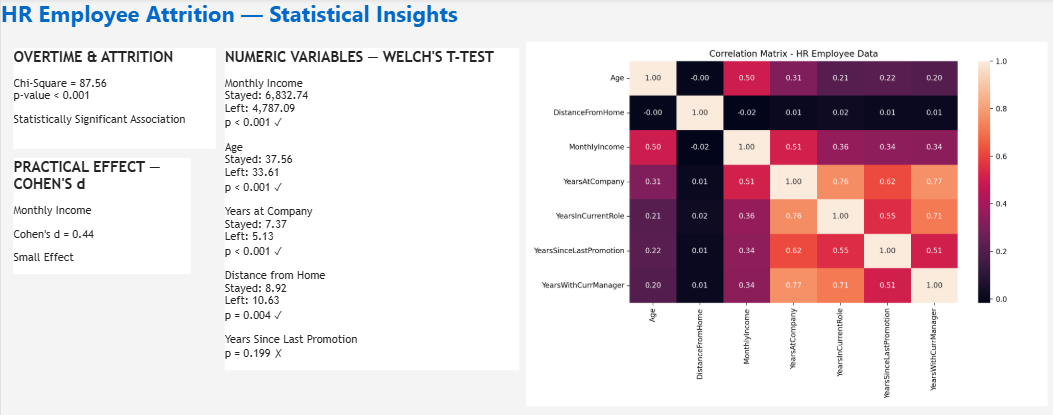

The page's visual inventory and layout, read from the dashboard file:
{"tool":"powerbi","page":{"name":"Statistical Insights","canvas":[1920,1080],"ordinal":2},"visuals":[{"type":"textbox","box":[18.3,73.2,293.2,146.6],"z":0},{"type":"textbox","box":[323.9,73.2,426.8,466.2],"z":1000},{"type":"textbox","box":[18.3,232.4,256.4,167.9],"z":2000},{"type":"image","box":[760.6,62,754.9,531],"z":3000},{"type":"textbox","box":[0,0,715.5,52.1],"z":3001}]}

Visuals, with their boxes on the page's 1920x1080 design canvas (x1, y1, x2, y2). These are canvas units, not pixel positions in the 1053x415 screenshot, which may show the page scaled, cropped or inside an application window:
textbox: rect(18, 73, 312, 220)
textbox: rect(324, 73, 751, 539)
textbox: rect(18, 232, 275, 400)
image: rect(761, 62, 1516, 593)
textbox: rect(0, 0, 716, 52)
